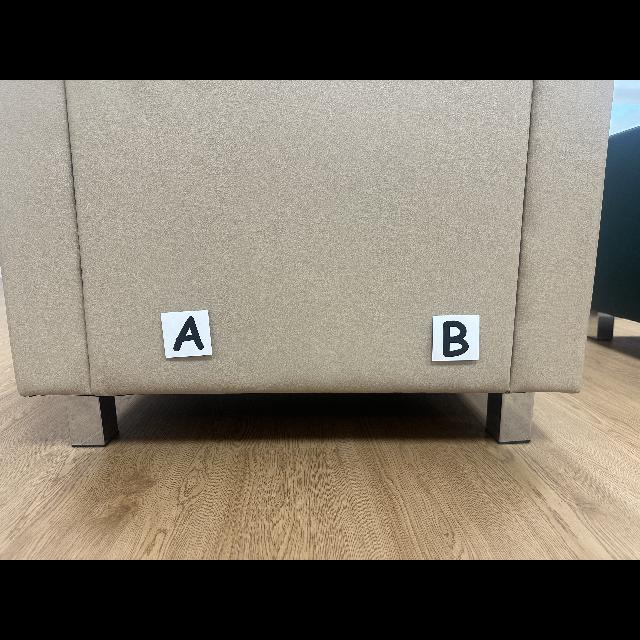A: (174, 316, 204, 351)
B: (442, 321, 469, 358)
